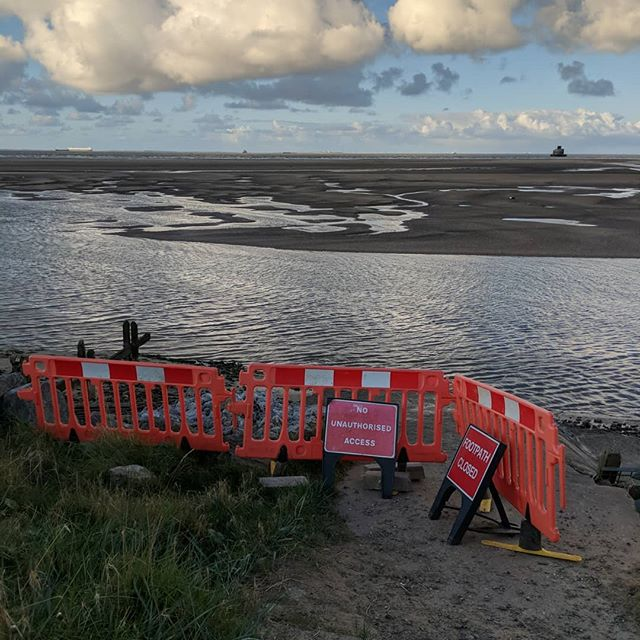grass: (1, 435, 328, 640)
river: (4, 192, 640, 415)
sign: (320, 395, 402, 465), (446, 421, 506, 503)
sky: (11, 1, 640, 147)
